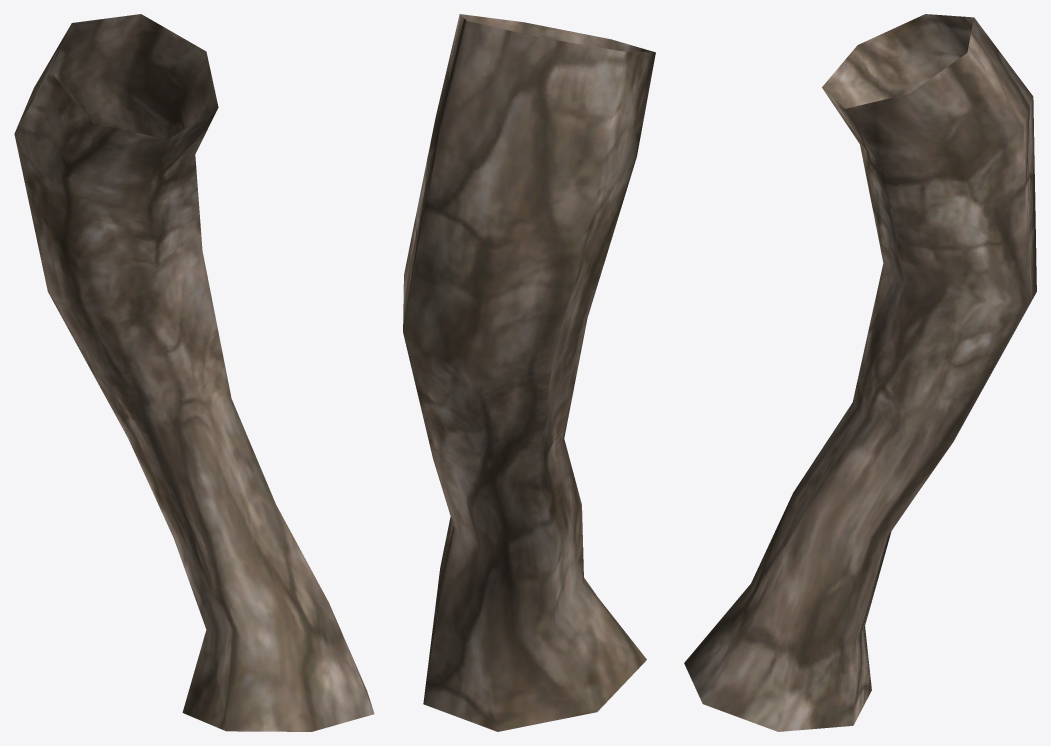
File: EKH_JAIL_PS_JA_PILLAR83766.fbx
3 renders of one model, left to right at view 1: azimuth 30°, elevation 25°; view 2: azimuth 150°, elevation 25°; view 3: azimuth 270°, elevation 25°, orthographic. The views are drawn at different scales.
Visible parts, largest first — view 1: EKH_JAIL_PS_JA_PILLAR83766; view 2: EKH_JAIL_PS_JA_PILLAR83766; view 3: EKH_JAIL_PS_JA_PILLAR83766.
Part boxes in pixels (x1,y1,x2,y2): EKH_JAIL_PS_JA_PILLAR83766: (14, 14, 374, 731); EKH_JAIL_PS_JA_PILLAR83766: (403, 14, 655, 731); EKH_JAIL_PS_JA_PILLAR83766: (684, 14, 1036, 731).
Size of the model in its own units: 19827 by 49578 by 25090.
1 material, 1 textured.
